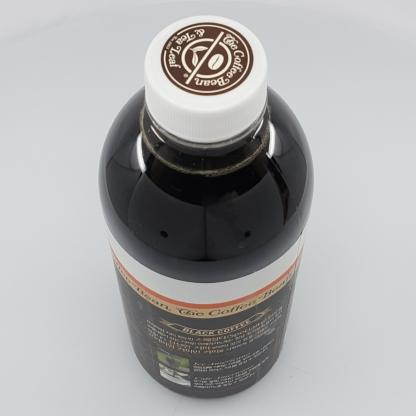--------: (98, 14, 315, 399)
